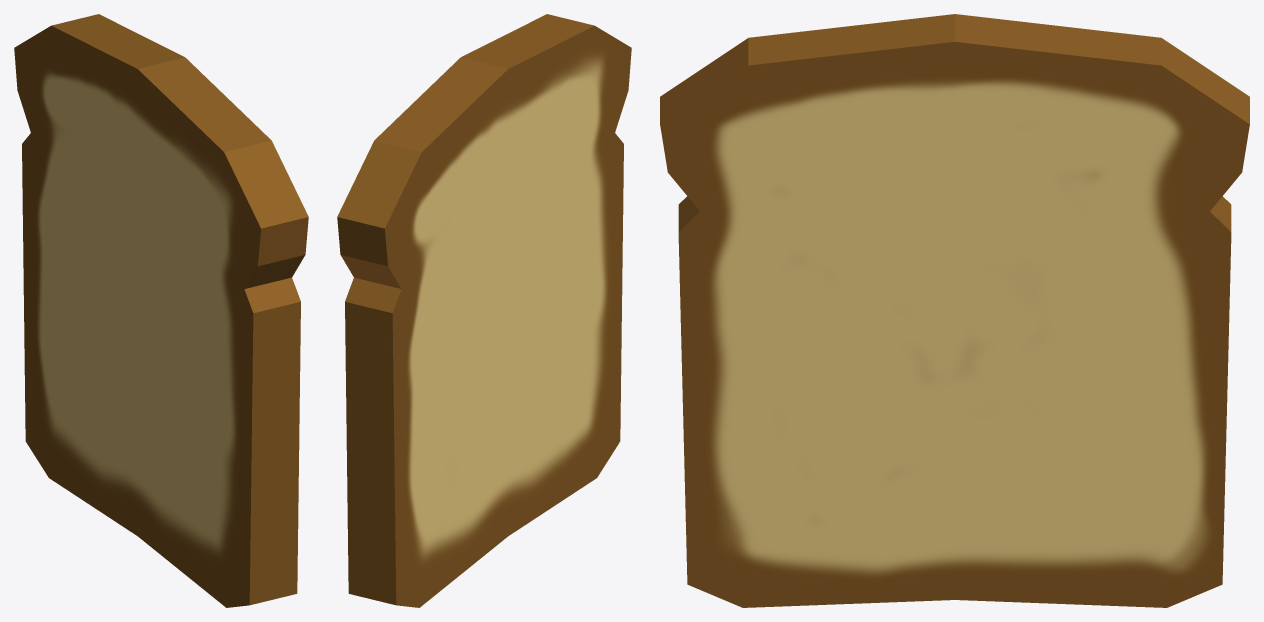
The model's file is toast.fbx.
3 renders of one model, left to right at view 1: azimuth 30°, elevation 25°; view 2: azimuth 150°, elevation 25°; view 3: azimuth 270°, elevation 25°, orthographic. The views are drawn at different scales.
Parts seen in each view (by area): view 1: Cube; view 2: Cube; view 3: Cube.
Part boxes in pixels (x1,y1,x2,y2): Cube: (14, 14, 308, 607); Cube: (337, 14, 631, 607); Cube: (660, 14, 1249, 607).
Bounding box in the file's own units: 38.91 × 370 × 349.
